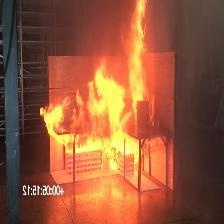fire: (19, 1, 193, 189)
